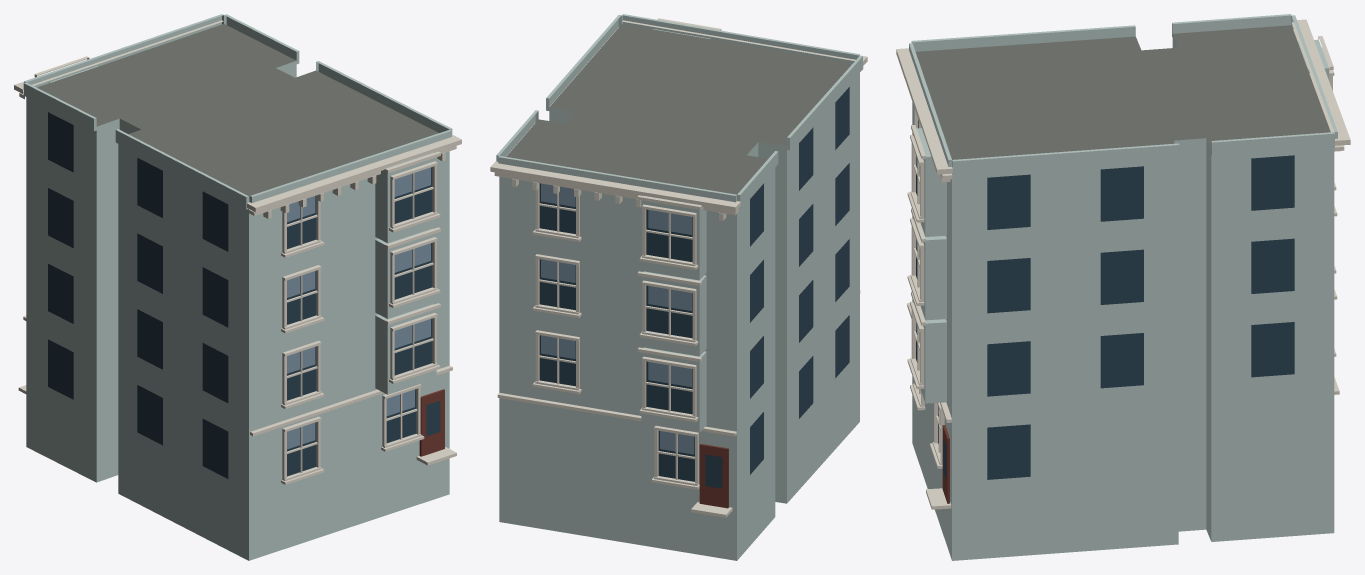
3 views of the same model, side by side, from view 1: azimuth 30°, elevation 25°; view 2: azimuth 150°, elevation 25°; view 3: azimuth 270°, elevation 25° (orthographic). The views are drawn at different scales.
Parts seen in each view (by area): view 1: Footprint 0 / surface 2, Footprint 0 / surface 1, Inset glazing, Cornices and window frames, Facade bay volumes, Sky reflection panels, Storefronts and doors; view 2: Footprint 0 / surface 2, Footprint 0 / surface 1, Inset glazing, Cornices and window frames, Facade bay volumes, Sky reflection panels, Storefronts and doors; view 3: Footprint 0 / surface 2, Footprint 0 / surface 1, Inset glazing, Facade bay volumes, Cornices and window frames.
Part boxes in pixels (left/top/right/bottom): Footprint 0 / surface 2: left=26, top=61, right=449, bottom=560; Footprint 0 / surface 1: left=37, top=24, right=438, bottom=202; Inset glazing: left=48, top=112, right=440, bottom=478; Cornices and window frames: left=14, top=20, right=461, bottom=484; Facade bay volumes: left=23, top=14, right=452, bottom=394; Sky reflection panels: left=287, top=167, right=430, bottom=449; Storefronts and doors: left=419, top=389, right=444, bottom=456; Footprint 0 / surface 2: left=499, top=72, right=859, bottom=560; Footprint 0 / surface 1: left=506, top=24, right=852, bottom=194; Inset glazing: left=539, top=87, right=849, bottom=488; Cornices and window frames: left=490, top=18, right=867, bottom=517; Facade bay volumes: left=496, top=14, right=862, bottom=432; Sky reflection panels: left=541, top=183, right=694, bottom=454; Storefronts and doors: left=699, top=443, right=728, bottom=508; Footprint 0 / surface 2: left=912, top=34, right=1334, bottom=560; Footprint 0 / surface 1: left=915, top=25, right=1330, bottom=159; Inset glazing: left=916, top=120, right=1294, bottom=479; Facade bay volumes: left=909, top=14, right=1337, bottom=403; Cornices and window frames: left=896, top=19, right=1350, bottom=509.
Size of the model in its own units: 11.69 by 14.55 by 14.94.
